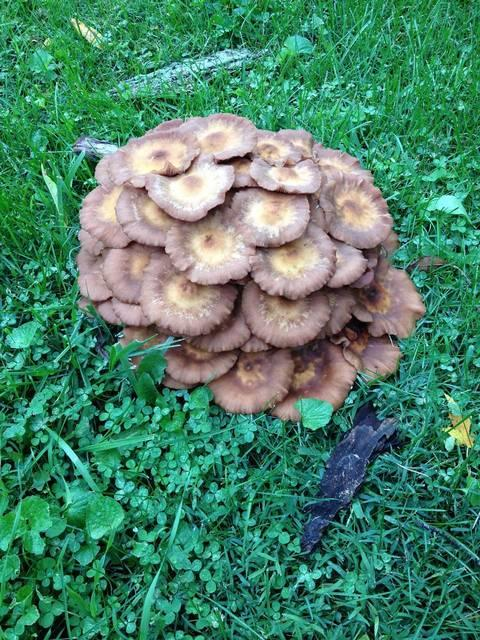edible_mushroom: (74, 112, 427, 422)
